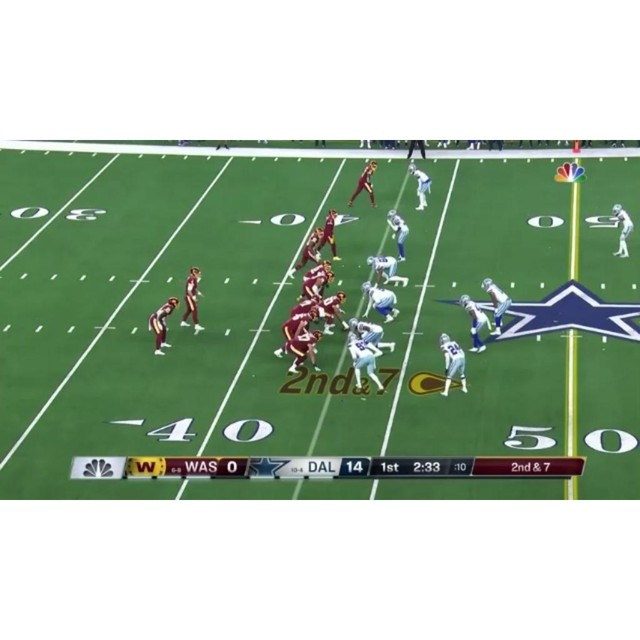american-football-player: (346, 333, 386, 395), (273, 308, 319, 358), (288, 226, 327, 277), (459, 294, 491, 353), (481, 276, 512, 336), (438, 334, 468, 396), (149, 297, 179, 357), (348, 316, 394, 355), (286, 329, 324, 375), (360, 280, 400, 322), (181, 266, 205, 333), (347, 160, 378, 208), (318, 290, 349, 334), (367, 255, 409, 287), (610, 203, 634, 258), (385, 209, 409, 262), (408, 161, 432, 211), (320, 207, 342, 261), (302, 270, 334, 300)
